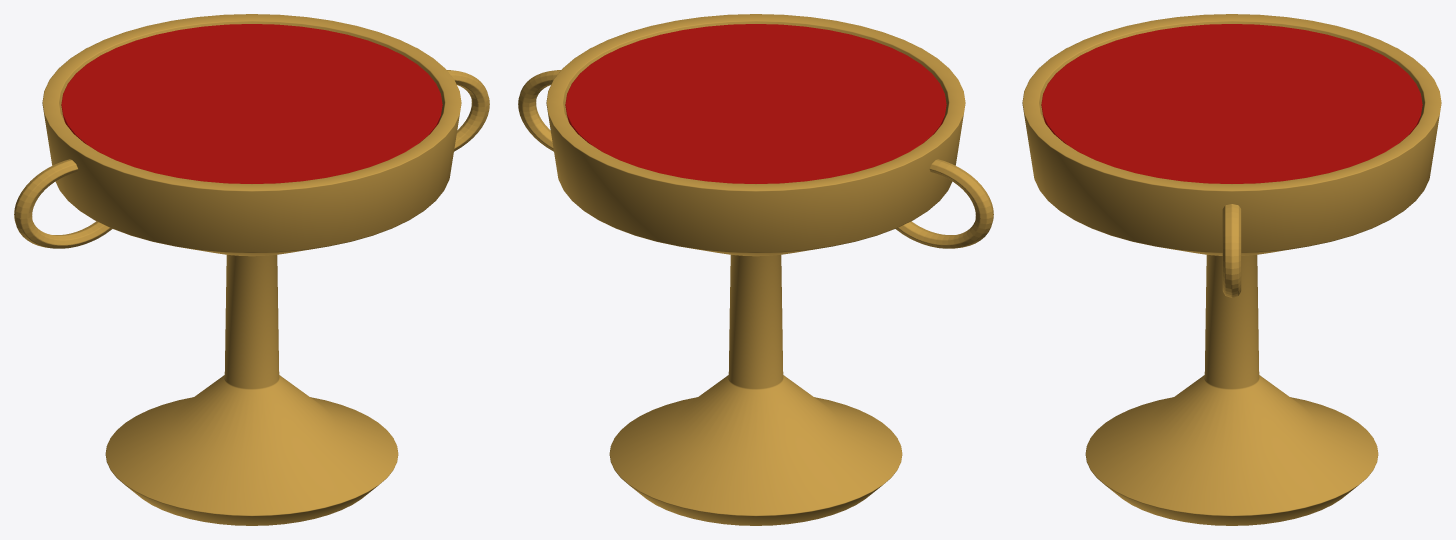
3 views of the same model, side by side, from view 1: azimuth 30°, elevation 25°; view 2: azimuth 150°, elevation 25°; view 3: azimuth 270°, elevation 25° (orthographic).
Visible parts, largest first — view 1: TI067 / gold foot stem and hollow bowl, TI067 / red inner lining, TI067 / separate cup loop handle, TI067 / separate cup loop handle.001; view 2: TI067 / gold foot stem and hollow bowl, TI067 / red inner lining, TI067 / separate cup loop handle, TI067 / separate cup loop handle.001; view 3: TI067 / gold foot stem and hollow bowl, TI067 / red inner lining, TI067 / separate cup loop handle.001.
Part boxes in pixels (x1,y1,x2,y2): TI067 / gold foot stem and hollow bowl: [42, 14, 461, 525]; TI067 / red inner lining: [61, 24, 442, 183]; TI067 / separate cup loop handle: [14, 159, 111, 248]; TI067 / separate cup loop handle.001: [447, 70, 489, 151]; TI067 / gold foot stem and hollow bowl: [546, 14, 965, 525]; TI067 / red inner lining: [565, 24, 946, 183]; TI067 / separate cup loop handle: [896, 159, 993, 248]; TI067 / separate cup loop handle.001: [518, 70, 560, 151]; TI067 / gold foot stem and hollow bowl: [1022, 14, 1441, 525]; TI067 / red inner lining: [1041, 24, 1422, 183]; TI067 / separate cup loop handle.001: [1222, 204, 1241, 297].
Bounding box in the file's own units: 2.61 × 1.95 × 2.
